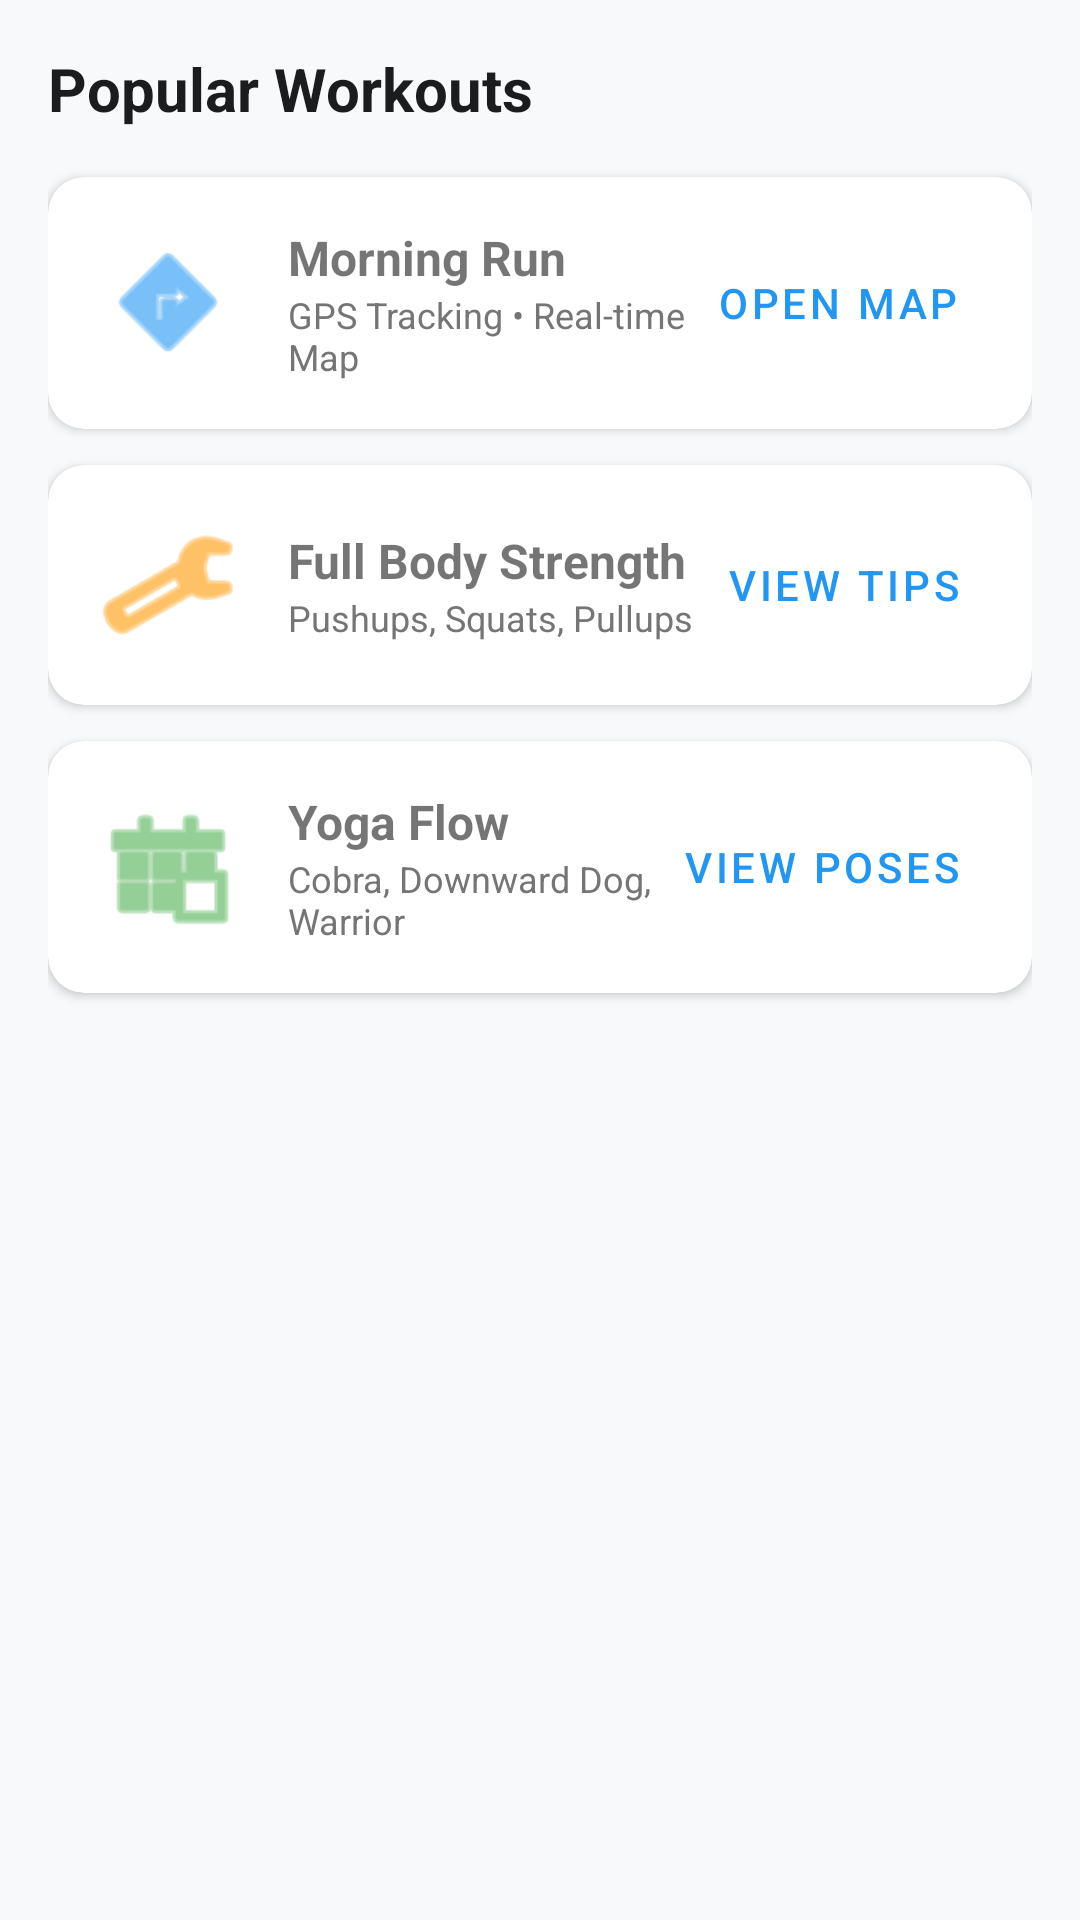

Point at icon controls on the screen. Image size 1080×1920, points as [x,y].
directions: [168,302]
manage: [168,585]
today: [169,869]
